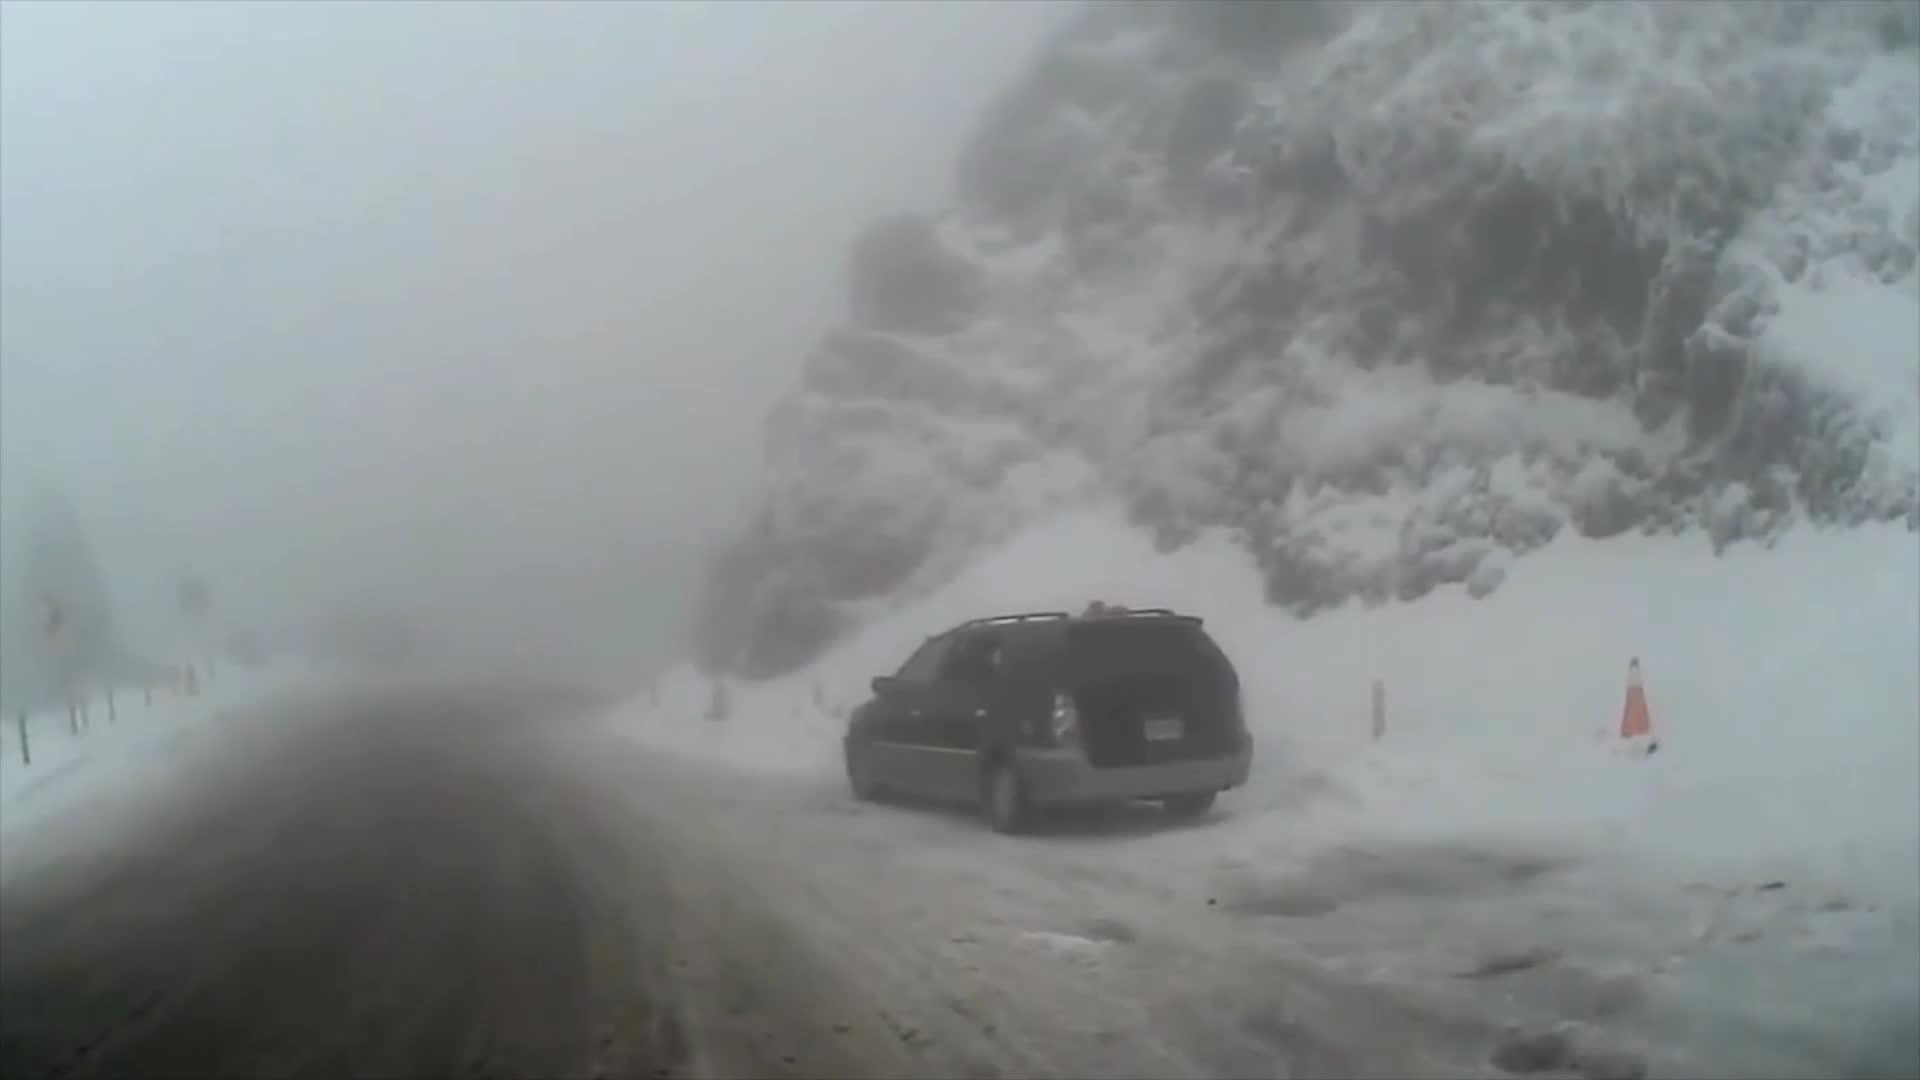vehicle: (840, 607, 1255, 837)
